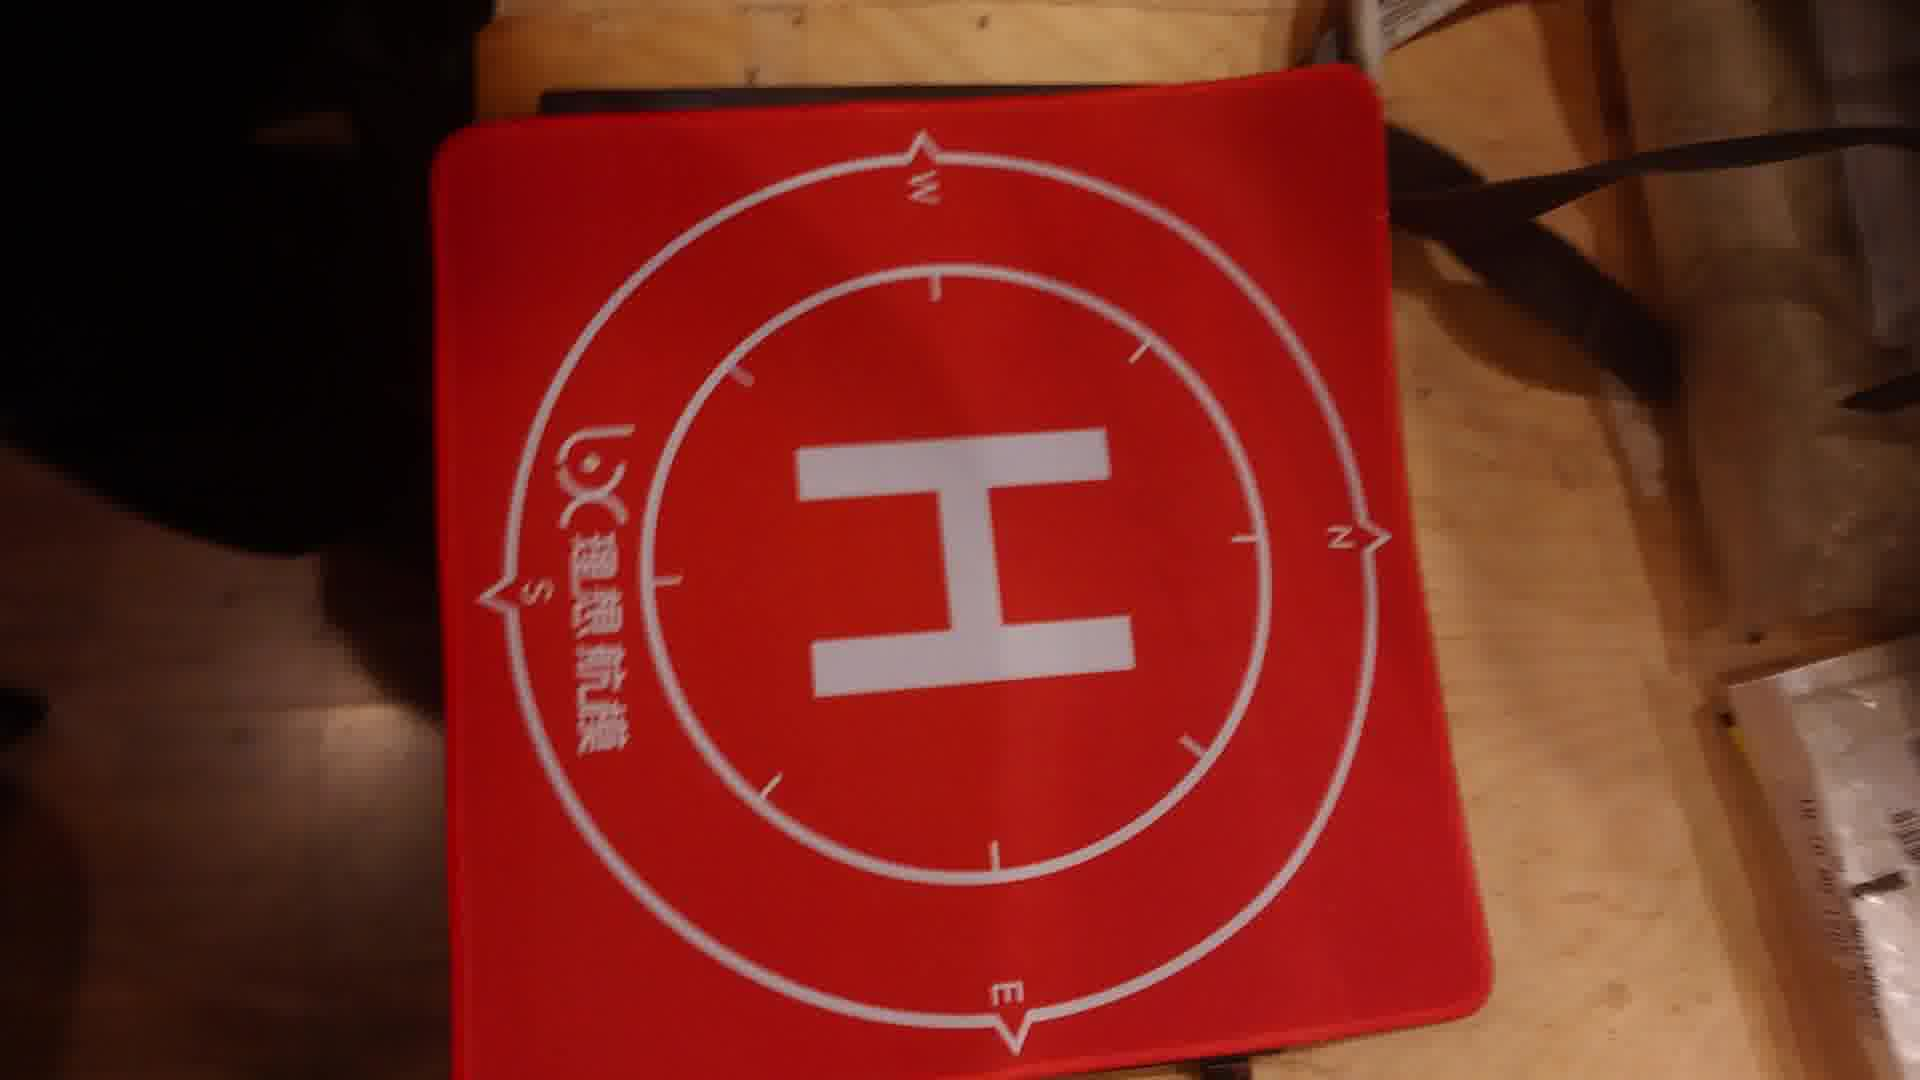H: (796, 429, 1135, 698)
